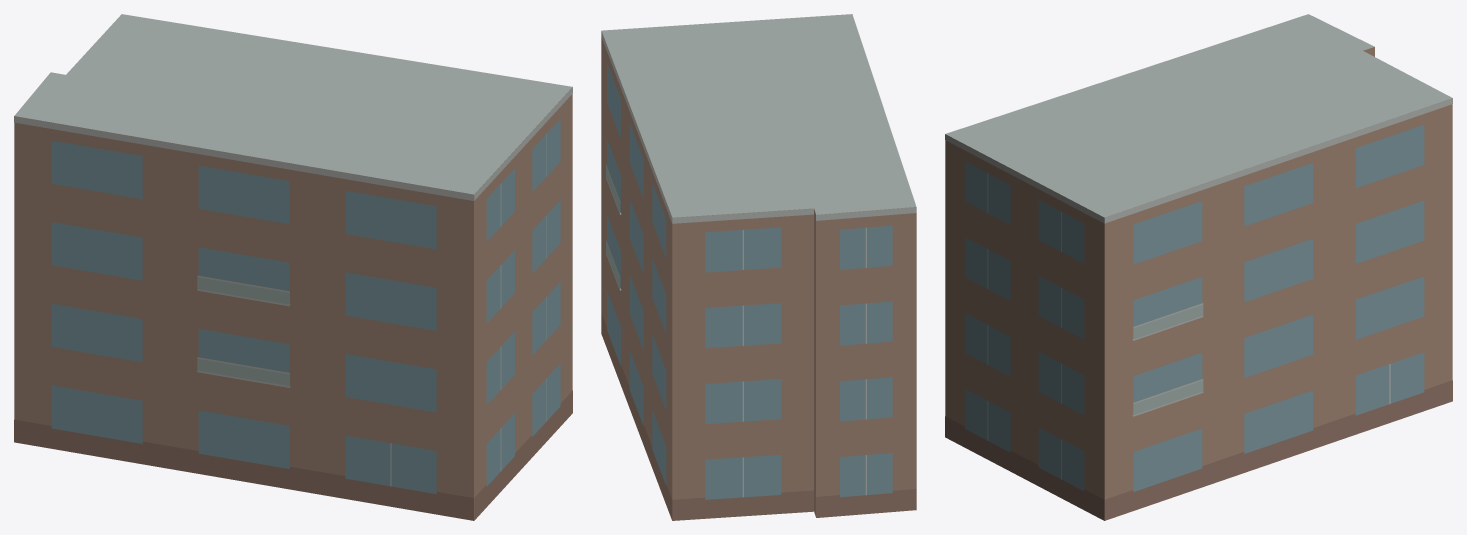
Rendered from survey-upis-32649980.glb.
3 renders of one model, left to right at view 1: azimuth 30°, elevation 25°; view 2: azimuth 150°, elevation 25°; view 3: azimuth 270°, elevation 25°, orthographic. The views are drawn at different scales.
Visible parts, largest first — view 1: survey-upis-32649980.tmp; view 2: survey-upis-32649980.tmp; view 3: survey-upis-32649980.tmp.
Part boxes in pixels (bbox=[...]): survey-upis-32649980.tmp: bbox=[14, 14, 572, 520]; survey-upis-32649980.tmp: bbox=[601, 14, 916, 520]; survey-upis-32649980.tmp: bbox=[945, 14, 1452, 520].
Bounding box in the file's own units: 17.57 × 12.2 × 18.52.
